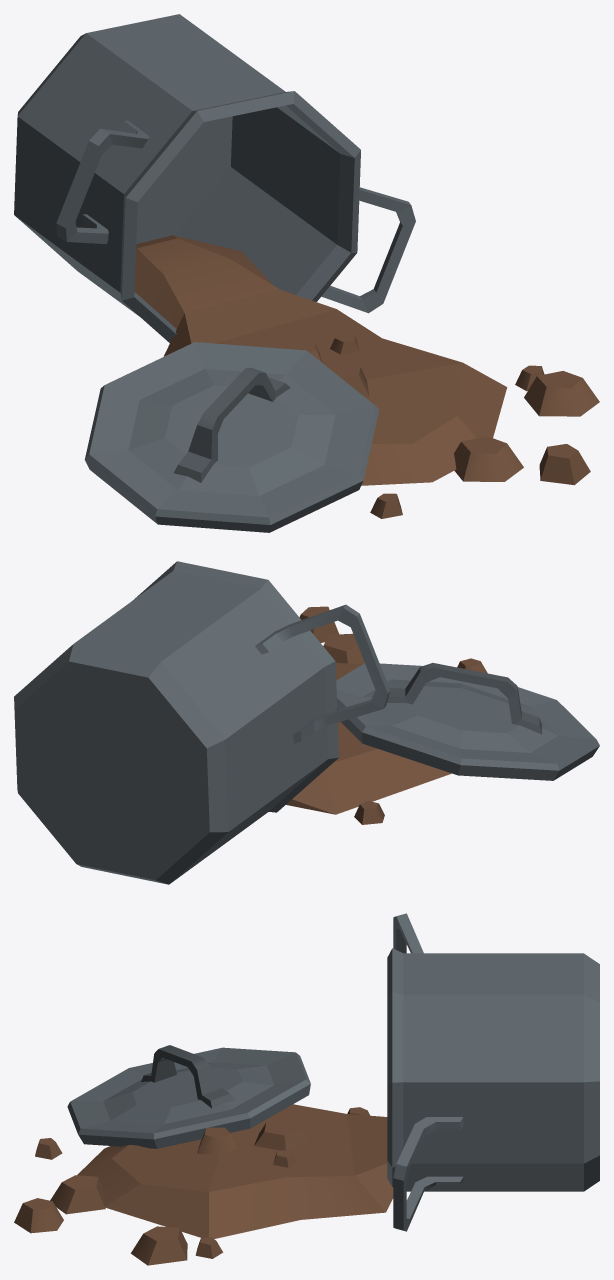
File: SM_Prop_Pot_Spilled_01.glb
3 views of the same model, one above another, from view 1: azimuth 30°, elevation 25°; view 2: azimuth 150°, elevation 25°; view 3: azimuth 270°, elevation 25° (orthographic). The views are drawn at different scales.
Visible parts, largest first — view 1: SM_Prop_Pot_Spilled_01; view 2: SM_Prop_Pot_Spilled_01; view 3: SM_Prop_Pot_Spilled_01.
Part boxes in pixels (<box>): SM_Prop_Pot_Spilled_01: <box>14,14,599,532</box>; SM_Prop_Pot_Spilled_01: <box>14,561,599,884</box>; SM_Prop_Pot_Spilled_01: <box>14,913,599,1265</box>.
Size of the model in its own units: 0.8048 by 0.4191 by 1.03.
1 material, 1 textured.
